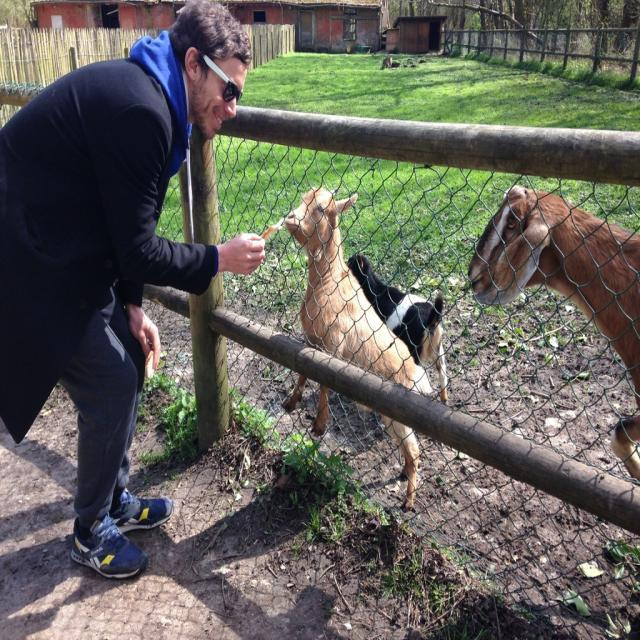Goat: (280, 185, 449, 512), (467, 183, 640, 481)
